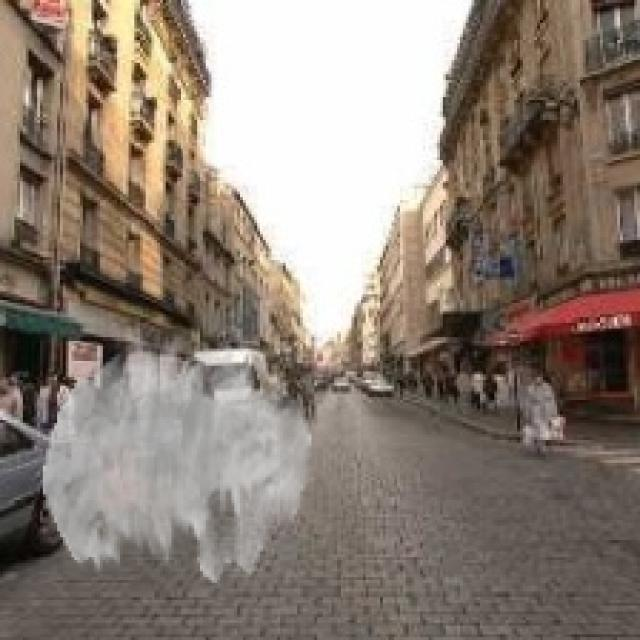Smoke: (42, 331, 312, 583)
